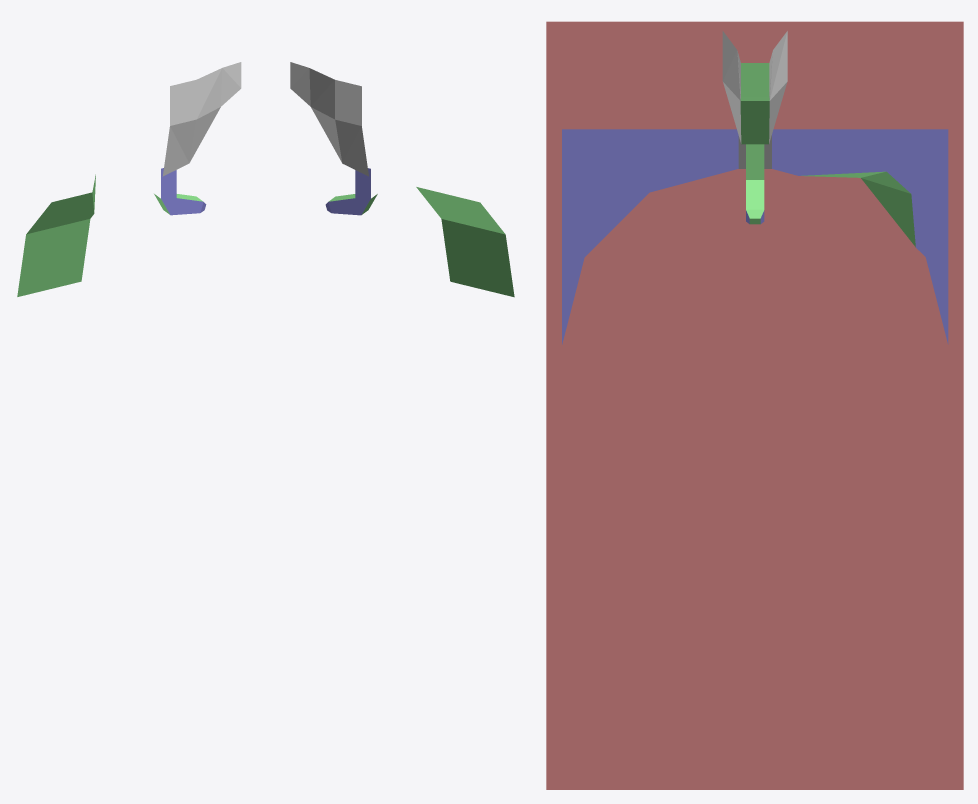
File: SSQ_BRoom02_wall04.gltf
The picture shows the model from 3 angles, left to right: view 1: azimuth 30°, elevation 25°; view 2: azimuth 150°, elevation 25°; view 3: azimuth 270°, elevation 25°; orthographic projection. The views are drawn at different scales.
Visible parts, largest first — view 1: SSQ_BRoom02_wall04; view 2: SSQ_BRoom02_wall04; view 3: SSQ_BRoom02_wall04.
Part boxes in pixels (left/top/right/bottom): SSQ_BRoom02_wall04: left=17, top=62, right=241, bottom=296; SSQ_BRoom02_wall04: left=290, top=62, right=514, bottom=297; SSQ_BRoom02_wall04: left=546, top=21, right=963, bottom=789.
Size of the model in its own units: 0.9097 by 3.88 by 1.8.
